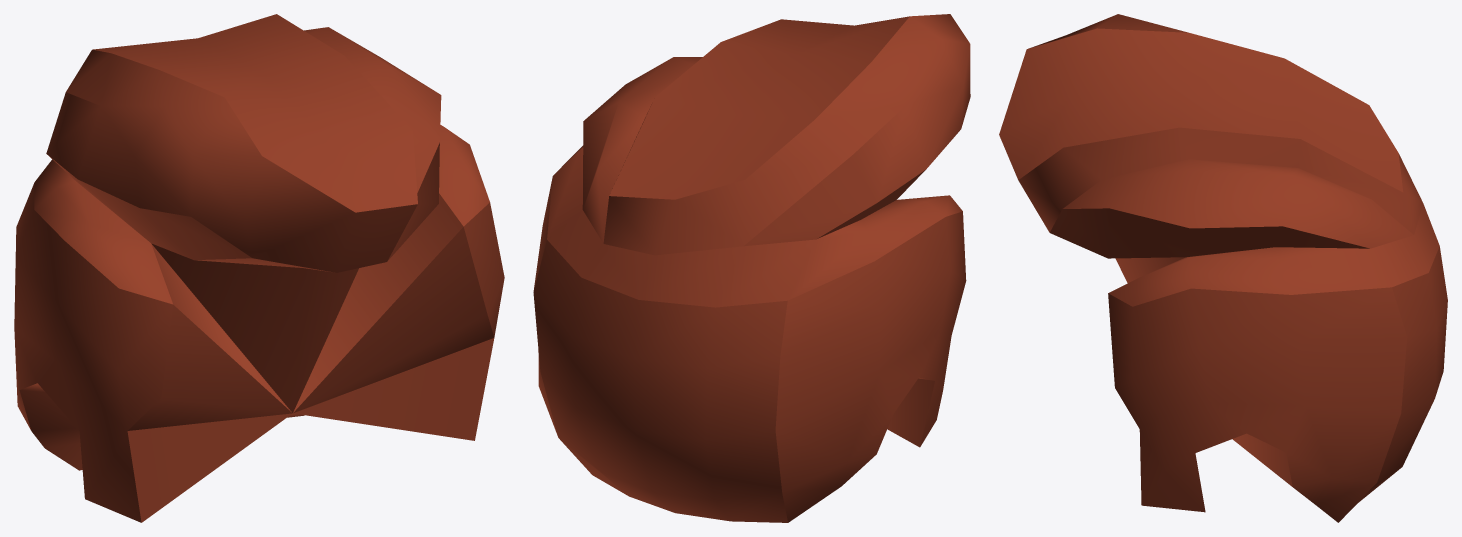
The model's file is Male_Hairs_03_v2.fbx.
The picture shows the model from 3 angles, left to right: view 1: azimuth 30°, elevation 25°; view 2: azimuth 150°, elevation 25°; view 3: azimuth 270°, elevation 25°; orthographic projection. The views are drawn at different scales.
Parts seen in each view (by area): view 1: Male_Hairs_03_v2; view 2: Male_Hairs_03_v2; view 3: Male_Hairs_03_v2.
Boxes of the visible parts, x1,y1,x2,y2 form: Male_Hairs_03_v2: (14,14,504,522); Male_Hairs_03_v2: (533,14,970,522); Male_Hairs_03_v2: (999,14,1447,522).
Bounding box in the file's own units: 58.17 × 63.26 × 63.4.
